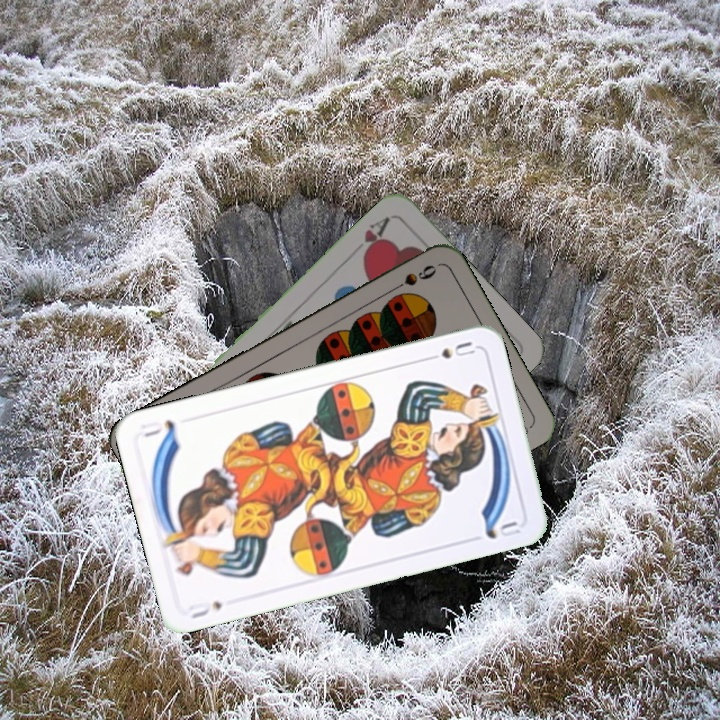HA: (357, 212, 393, 263)
S9: (385, 260, 440, 296)
SU: (420, 337, 478, 364), (184, 597, 225, 621)
